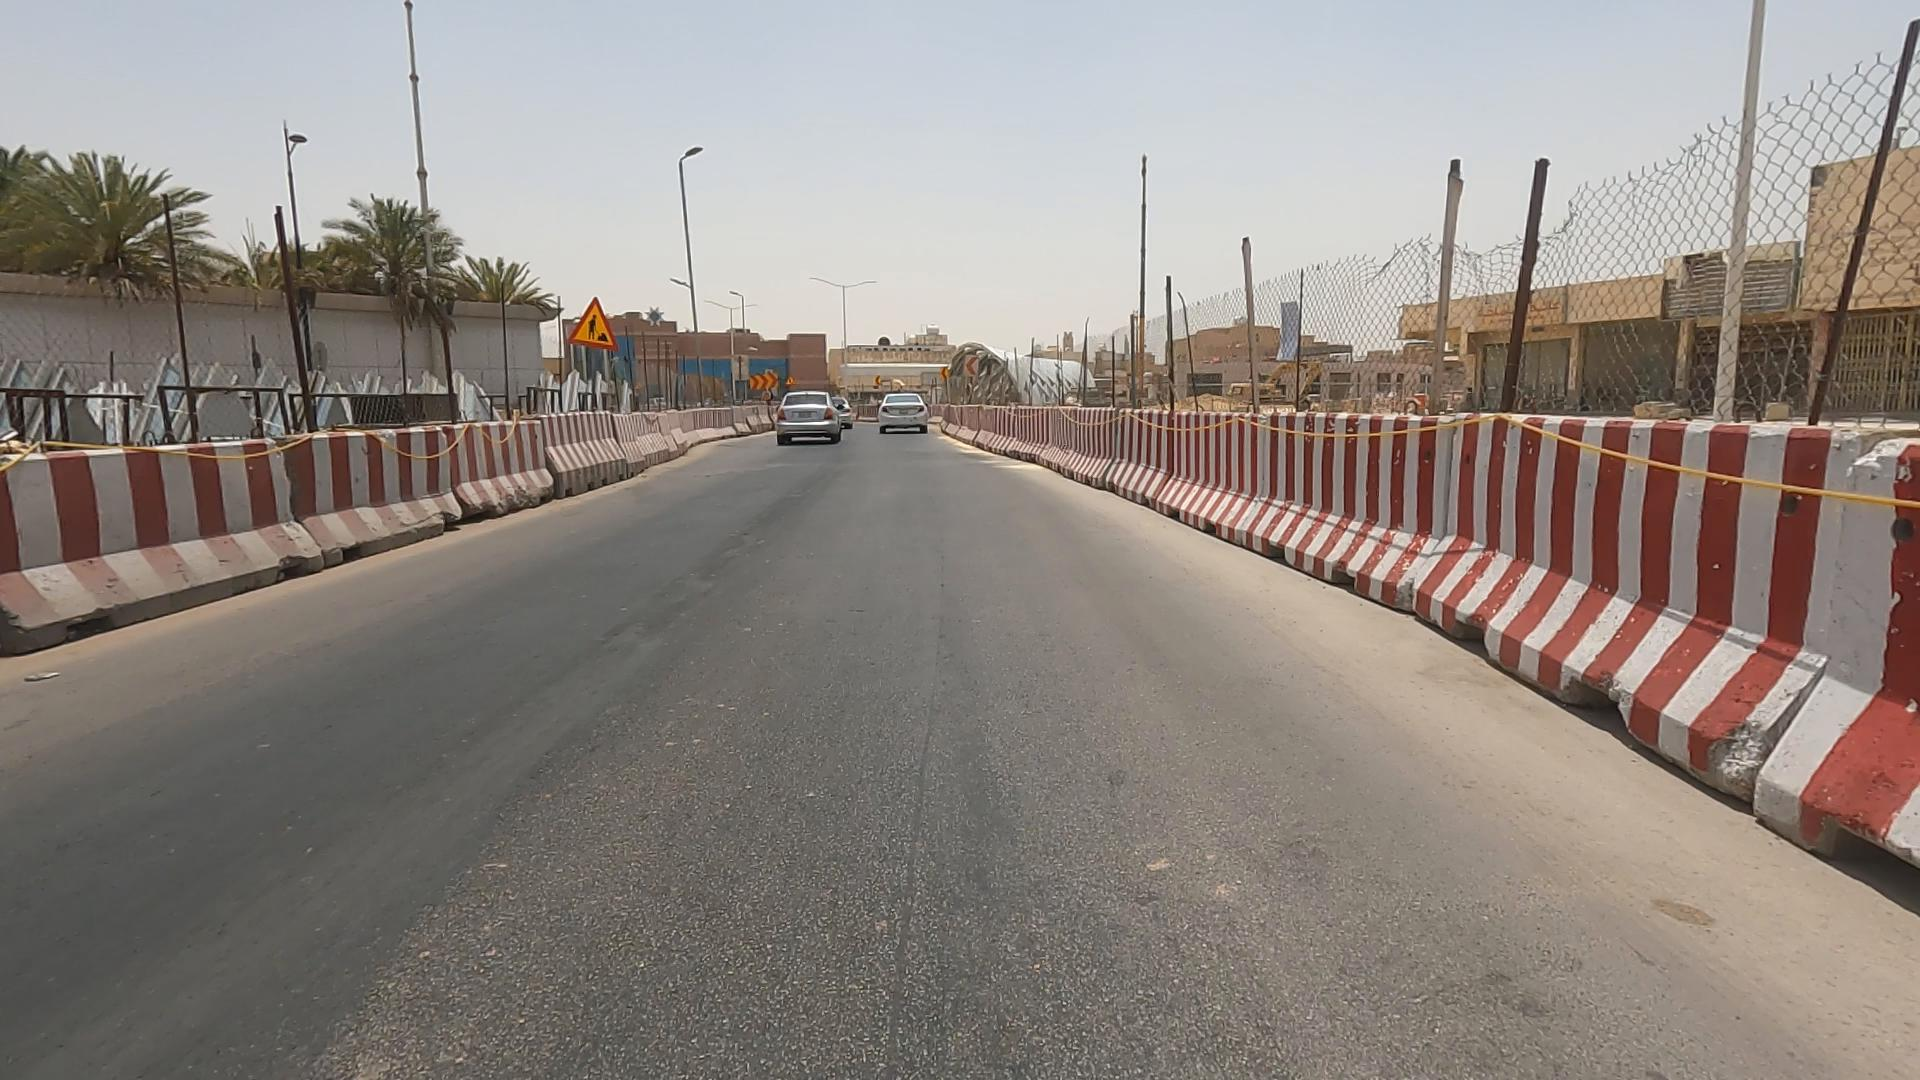CONSTRUCTION_ROAD: (6, 35, 660, 858)
